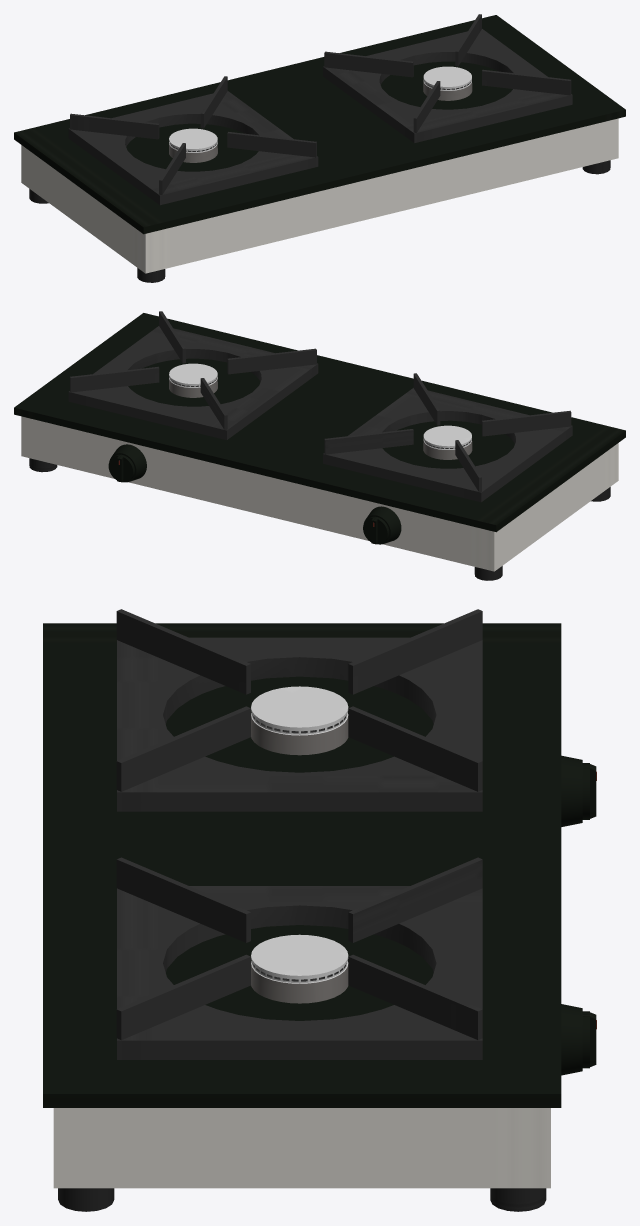
The model's file is GasStove03.glb.
The picture shows the model from 3 angles, top to bottom: view 1: azimuth 30°, elevation 25°; view 2: azimuth 150°, elevation 25°; view 3: azimuth 270°, elevation 25°; orthographic projection. The views are drawn at different scales.
Parts seen in each view (by area): view 1: GasStove03_model; view 2: GasStove03_model, GasStove03_Knob02, GasStove03_Knob01; view 3: GasStove03_model, GasStove03_Knob01, GasStove03_Knob02.
Part boxes in pixels (x1,y1,x2,y2): GasStove03_model: (14,14,625,282); GasStove03_model: (14,311,625,580); GasStove03_Knob02: (363,516,389,544); GasStove03_Knob01: (108,454,134,482); GasStove03_model: (43,609,582,1211); GasStove03_Knob01: (582,1011,596,1068); GasStove03_Knob02: (582,763,596,819).
Bounding box in the file's own units: 1.86 × 0.3179 × 0.9257.
1 material, 1 textured.
